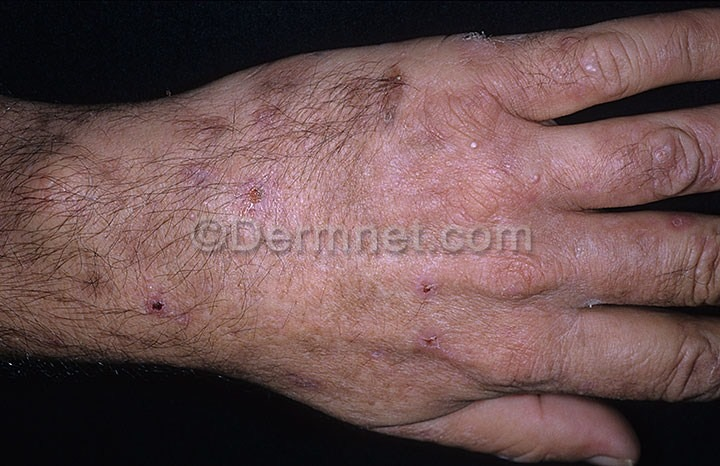Melasma: (0, 252, 476, 393), (163, 60, 429, 215)
